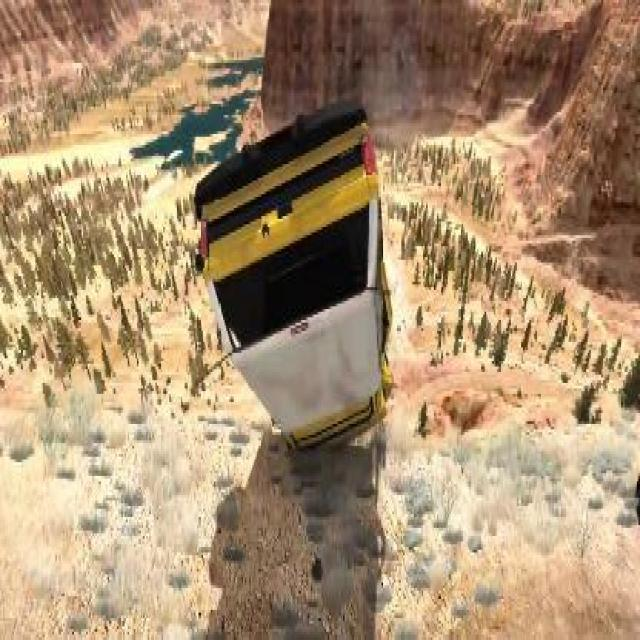accident: (186, 90, 403, 470)
